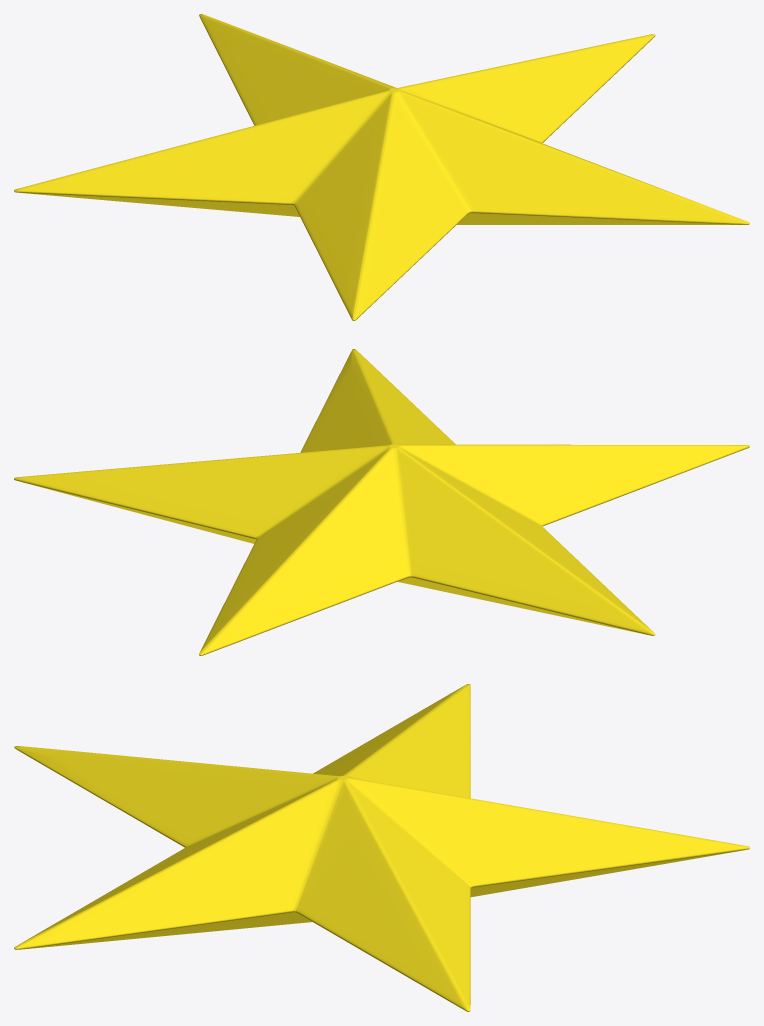
The model's file is star.obj.
3 renders of one model, top to bottom at view 1: azimuth 30°, elevation 25°; view 2: azimuth 150°, elevation 25°; view 3: azimuth 270°, elevation 25°, orthographic. The views are drawn at different scales.
Parts seen in each view (by area): view 1: Cube; view 2: Cube; view 3: Cube.
Part boxes in pixels (<box>): Cube: <box>14,14,749,320</box>; Cube: <box>14,349,749,655</box>; Cube: <box>14,684,749,1011</box>.
Size of the model in its own units: 3.12 by 0.6219 by 2.97.
